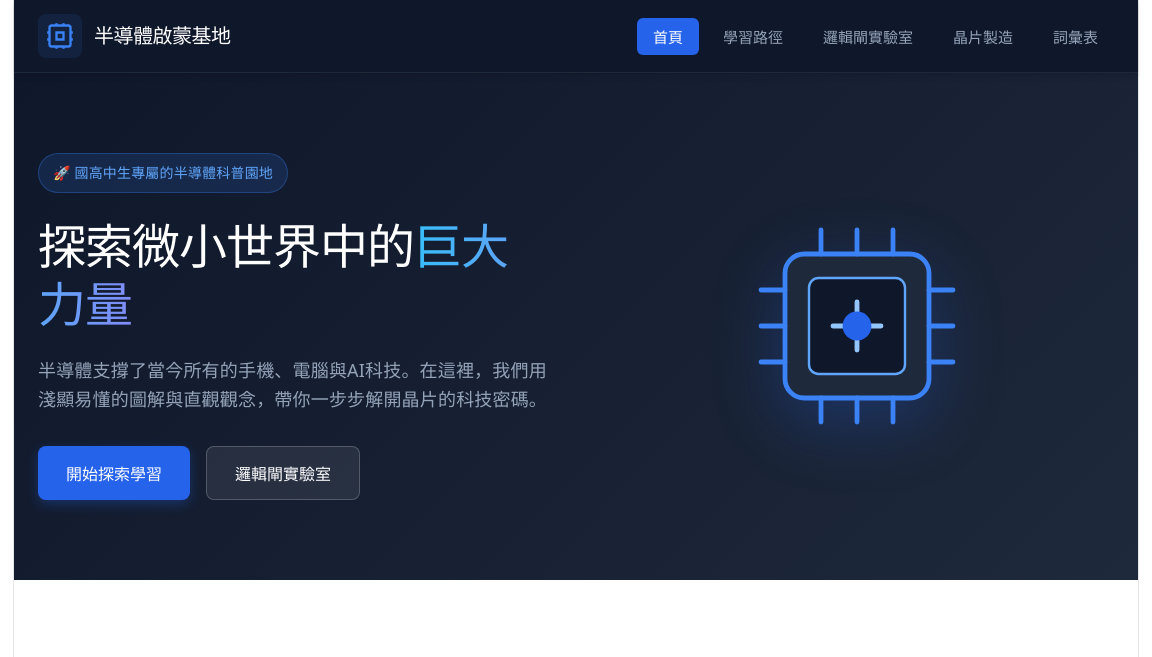
Scenario: Introduce Semiconductor Website M1 › navigates to learn page when learning path or nav link is clicked
This screenshot has width=1152, height=657.
Click the button "學習路徑" at (753, 36), box left=707, top=18, right=799, bottom=54
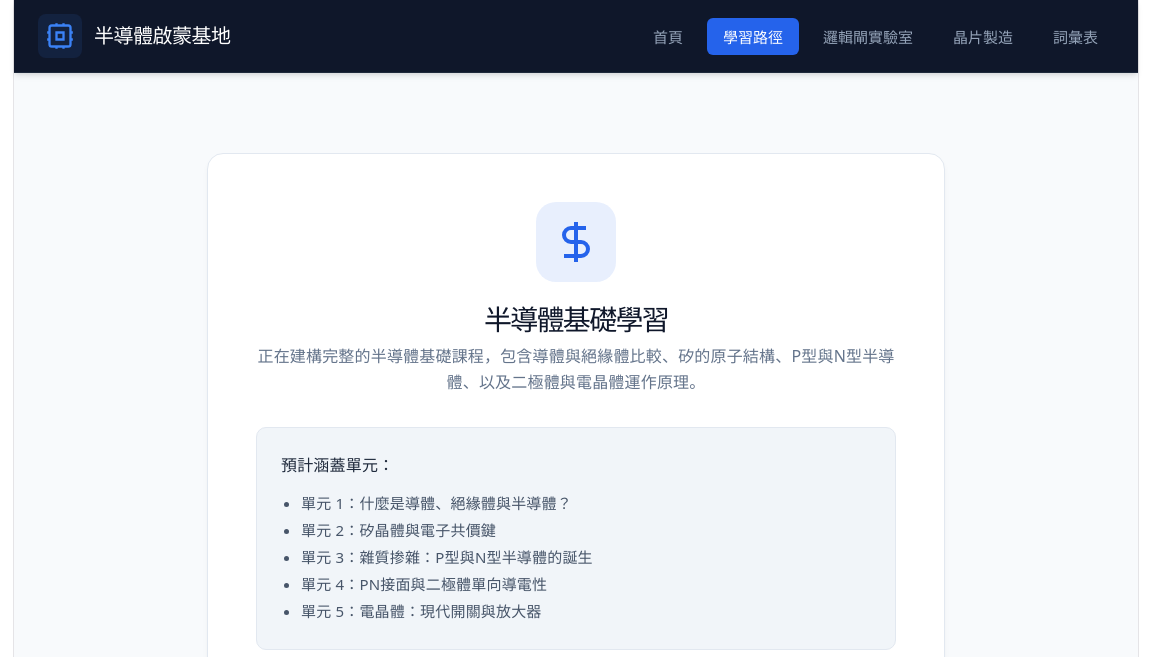
Expected: the heading "半導體基礎學習" is shown, left=484, top=300, right=668, bottom=338
